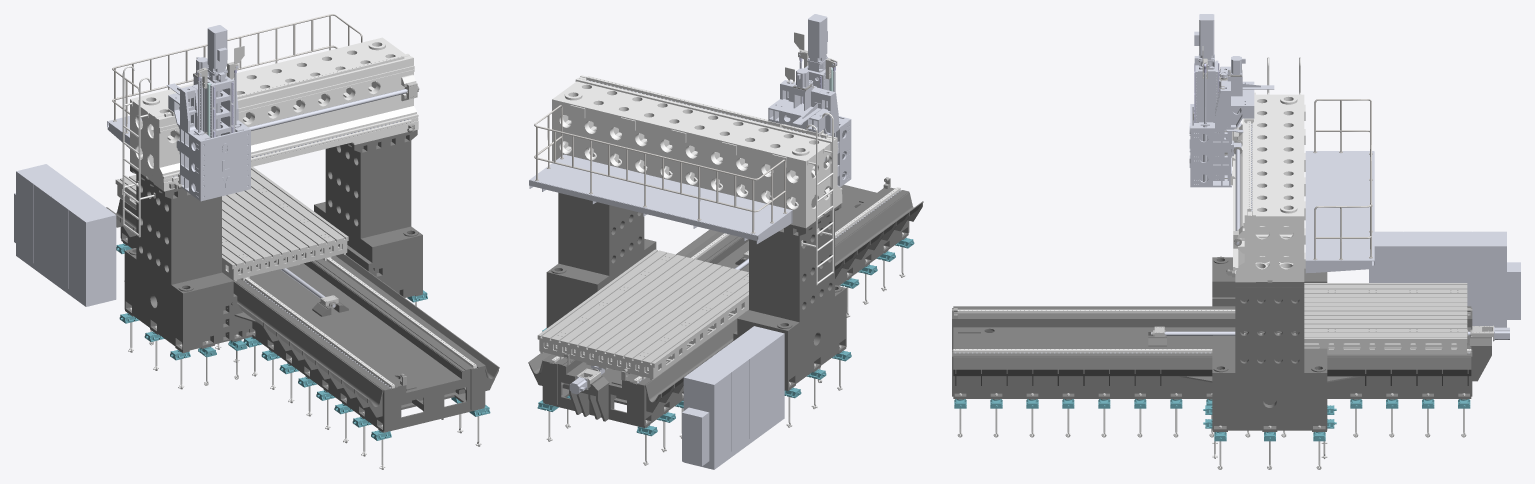
The model's file is 龙门cnc4.glb.
The picture shows the model from 3 angles, left to right: view 1: azimuth 30°, elevation 25°; view 2: azimuth 150°, elevation 25°; view 3: azimuth 270°, elevation 25°; orthographic projection.
Visible parts, largest first — view 1: cast iron-5, cast iron-9, color-89, color-2, cast iron-1, color-235, color-185, carbon steel-2, color-48, color-5, texture-1, color (+3 smaller); view 2: color-89, cast iron-5, cast iron-1, cast iron-9, color-2, color-121, color-235, carbon steel-2, color-185, color-5, color, texture-1 (+3 smaller); view 3: cast iron-9, cast iron-5, color-89, cast iron-1, color-2, color-121, color-235, color-48, color-185, texture-1, carbon steel-2, color-137 (+2 smaller).
Boxes of the visible parts, x1,y1,x2,y2 form: cast iron-5: (124,130,422,352); cast iron-9: (106,198,499,432); color-89: (130,37,418,191); color-2: (14,164,116,306); cast iron-1: (115,167,348,281); color-235: (167,75,250,201); color-185: (116,243,490,440); carbon steel-2: (112,14,362,133); color-48: (240,256,476,388); color-5: (164,55,411,183); texture-1: (124,238,481,469); color: (122,65,155,237); color-89: (552,75,842,228); cast iron-5: (546,192,846,390); cast iron-1: (537,249,748,380); cast iron-9: (528,185,923,427); color-2: (682,326,784,469); color-121: (529,154,792,243); color-235: (768,80,851,186); carbon steel-2: (534,105,787,233); color-185: (537,238,914,436); color-5: (586,76,827,138); color: (801,112,833,285); texture-1: (546,232,905,465); cast iron-9: (952,305,1491,399); cast iron-5: (1212,256,1327,431); color-89: (1235,92,1305,282); cast iron-1: (1244,283,1467,354); color-2: (1369,231,1520,327); color-121: (1305,151,1374,273); color-235: (1189,66,1274,187); color-48: (953,309,1471,353); color-185: (954,399,1470,441); texture-1: (957,393,1466,469); carbon steel-2: (1313,99,1372,260); color-137: (1195,61,1218,122).
Bounding box in the file's own units: 5.27 × 6.8 × 9.88.
37 materials, 1 textured.
